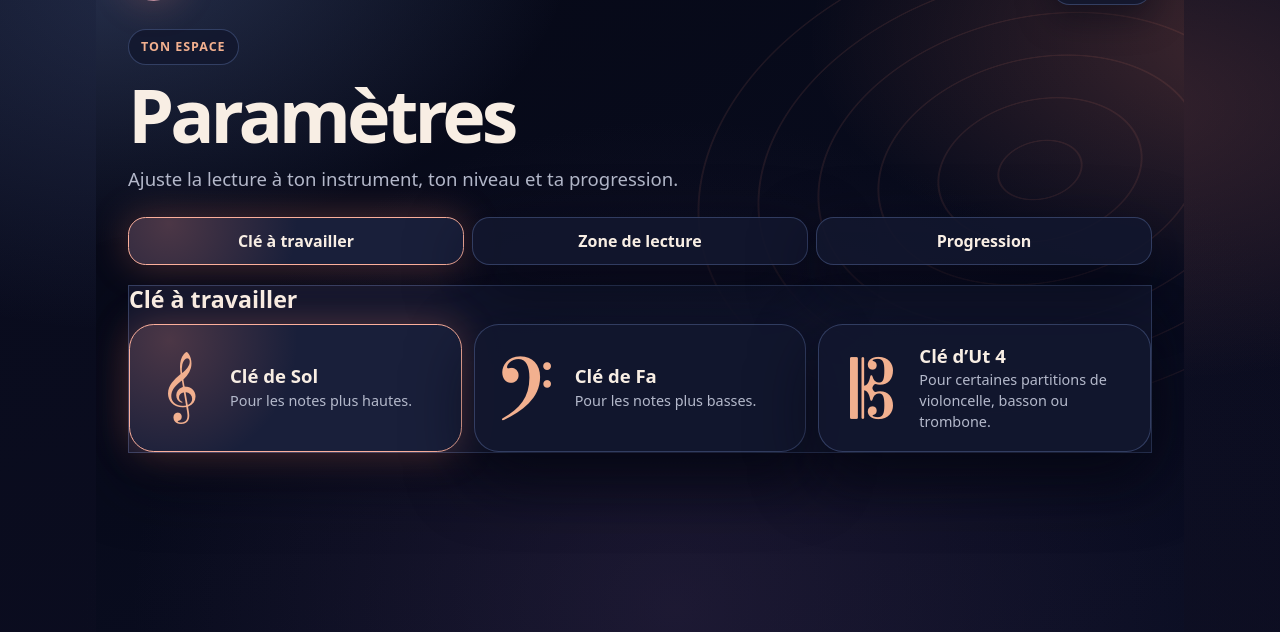
Test: SettingsPage progression › adds a keyboard-accessible Progression tab with reset
This screenshot has width=1280, height=632.
Press End in the tab "Clé à travailler", box [128,217,464,265]
(page scrolled)
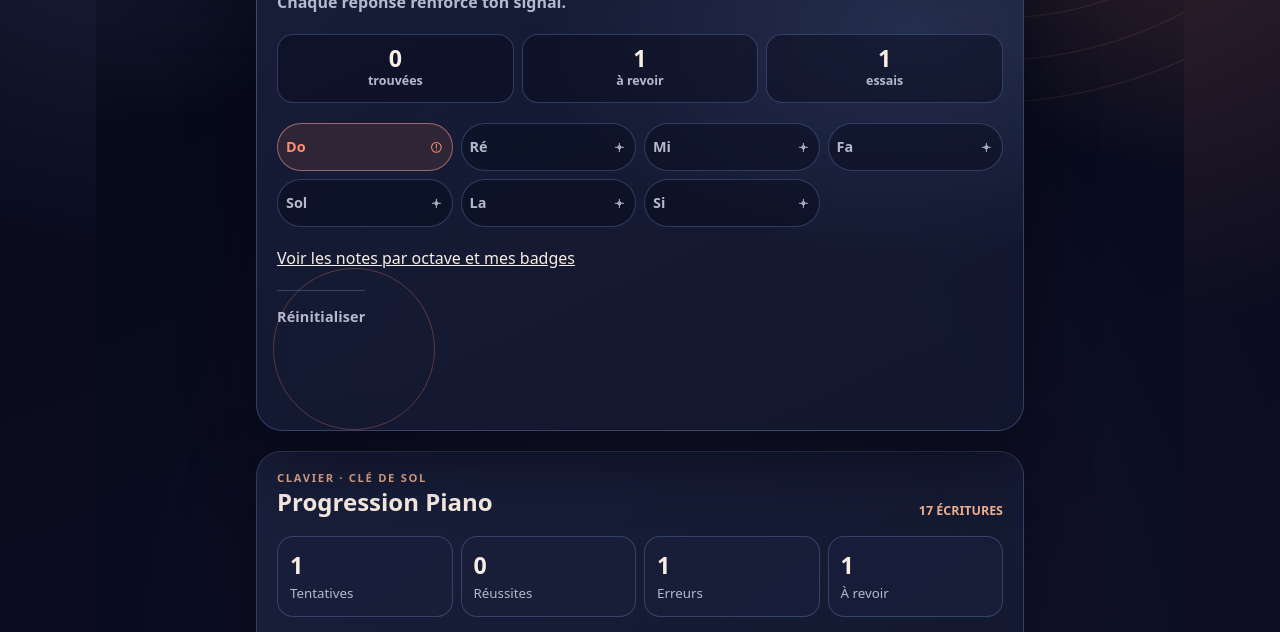
Expected: the element named "Statistiques de progression" shows "1 essai", [277,34,1003,103]
Expected: the element named "Statistiques de progression" shows "1 à revoir", [277,34,1003,103]
Expected: the heading "Progression Piano" is shown, [277,485,493,520]
Click the button "Réinitialiser" at point(321, 314), box [277,290,365,338]
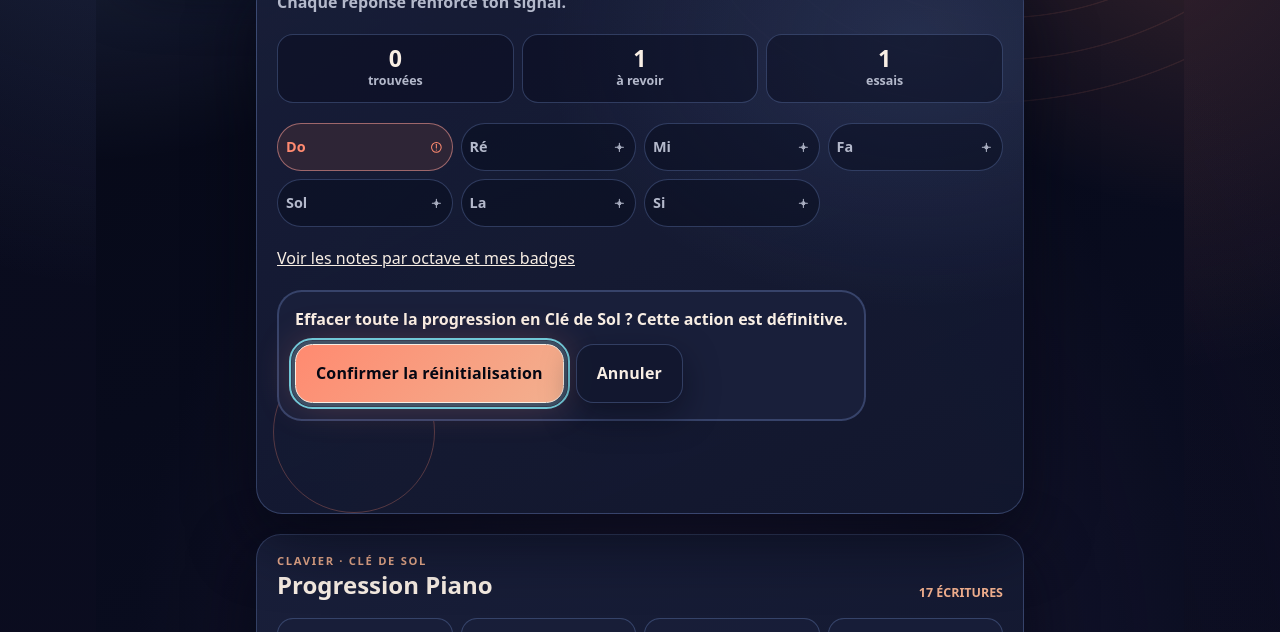
Click the button "Confirmer la réinitialisation" at point(429, 373), box [295,344,564,403]
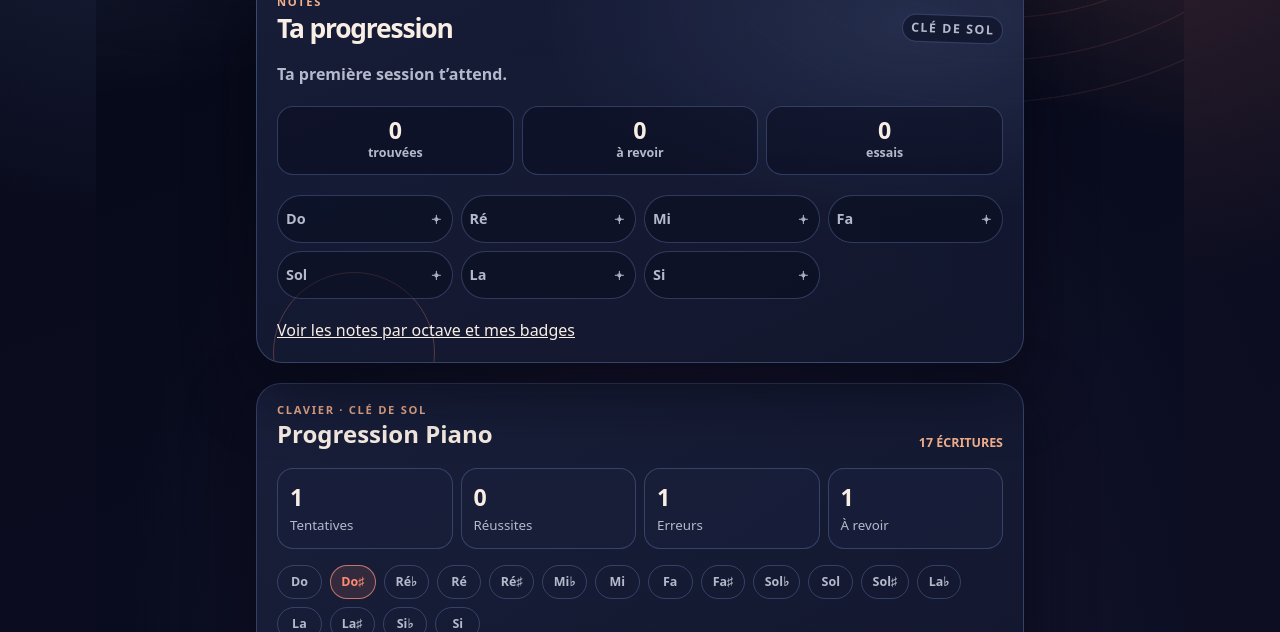
Expected: the element named "Statistiques de progression" shows "0 essais", [277,106,1003,175]
